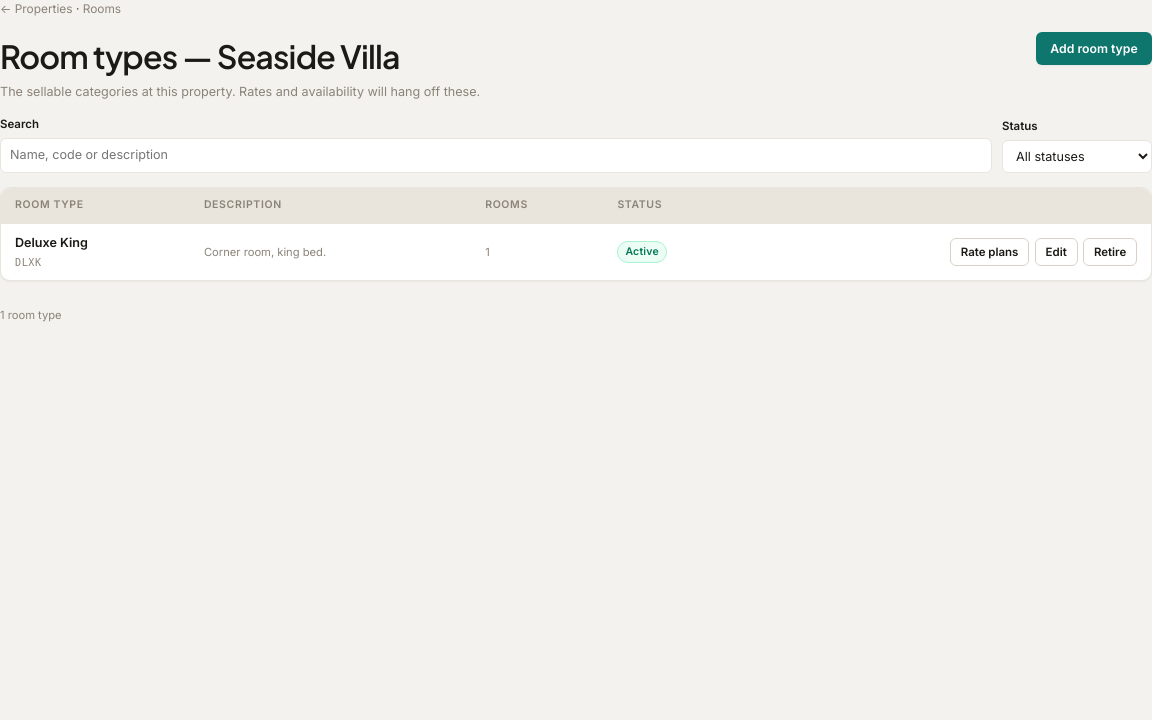
Test case: RoomTypesPage — retire, restore and delete › sends nothing when a retire is cancelled
Check: the text "Deluxe King" is shown, box top-left (15, 235), bottom-right (88, 250)
Click the button "Retire". click: click(1110, 252)
box: top-left (1083, 238), bottom-right (1137, 266)
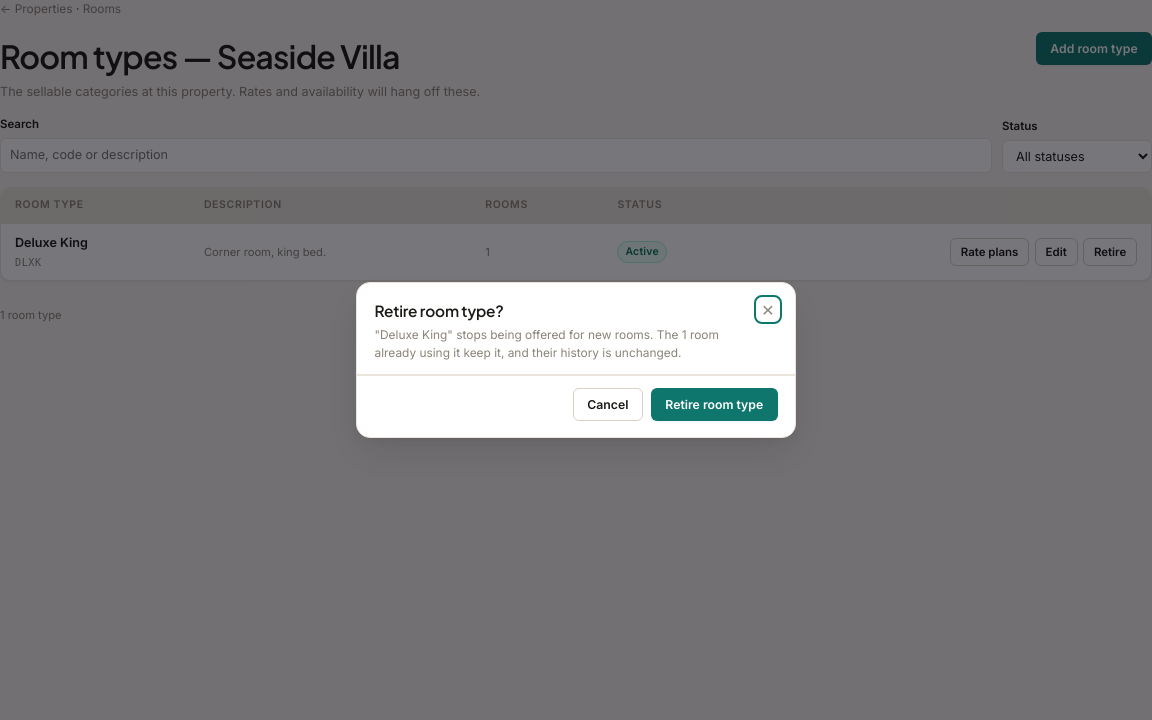
Click the button "Cancel". click: click(608, 405)
box: top-left (573, 388), bottom-right (643, 421)
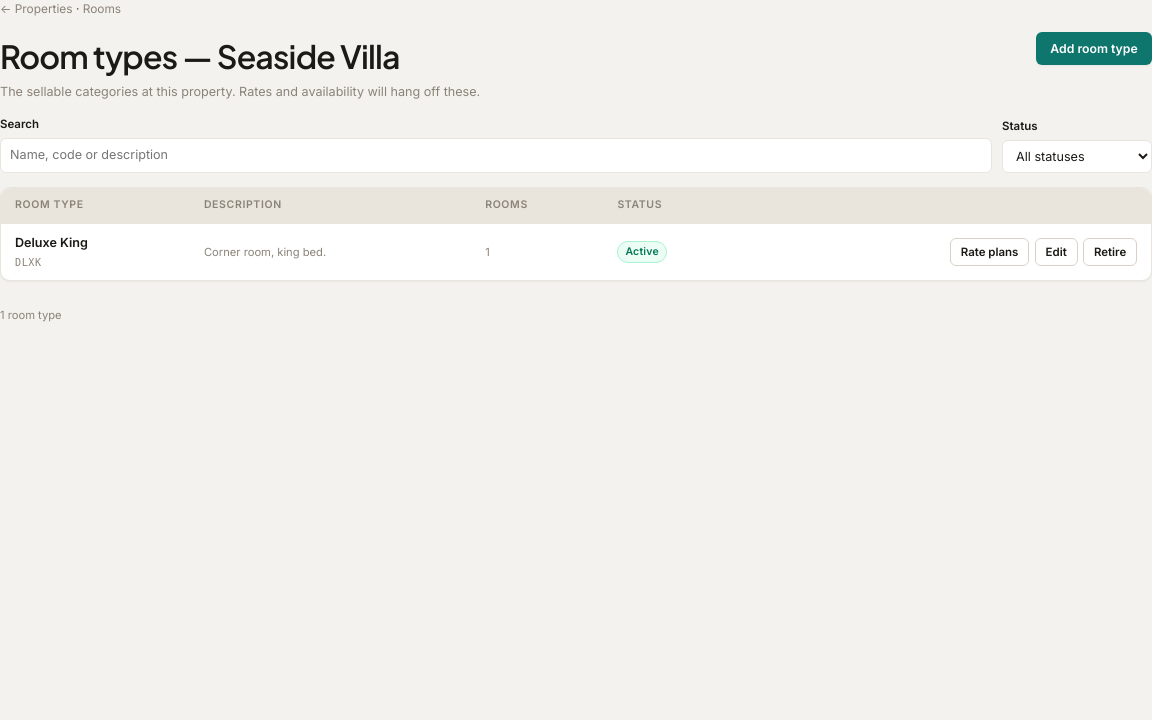
Check: the dialog is gone
